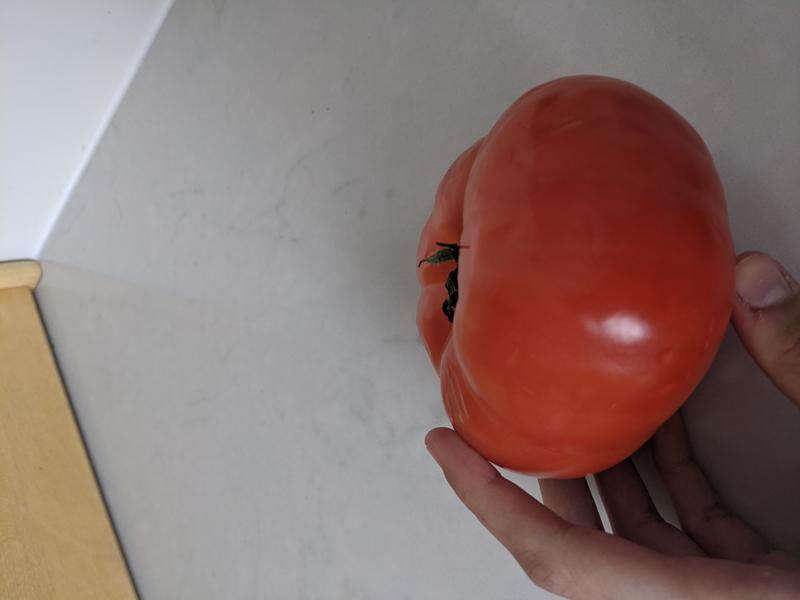tomato: (416, 75, 738, 480)
